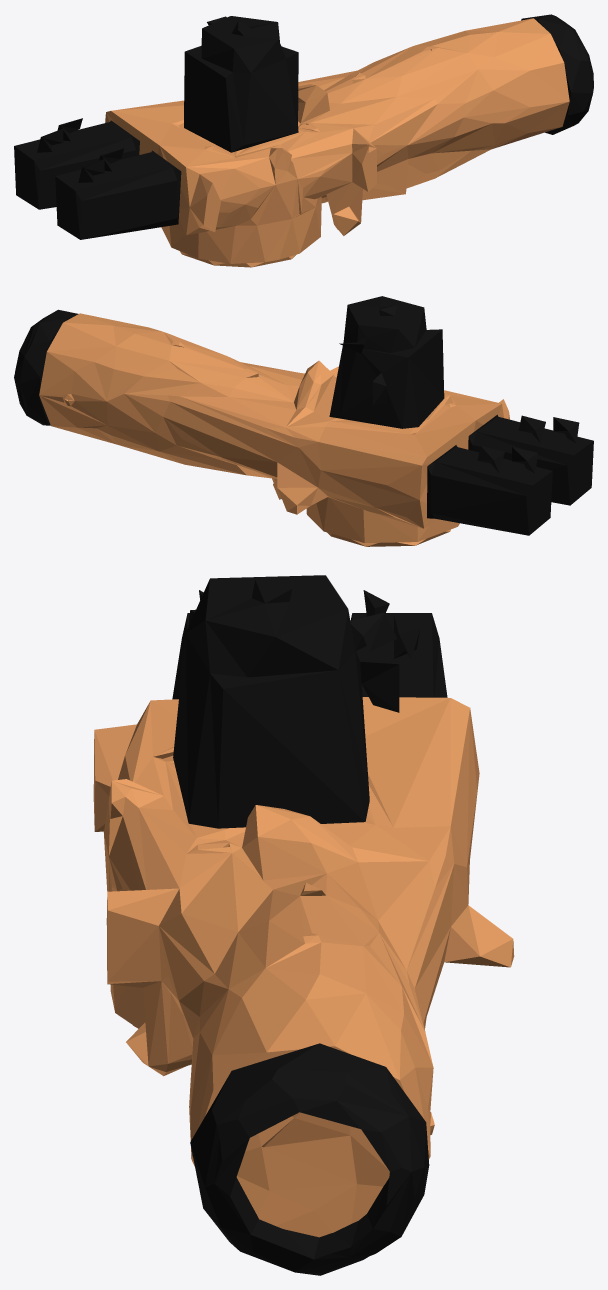
The model's file is like_kr240r2900_link_3.glb.
The picture shows the model from 3 angles, top to bottom: view 1: azimuth 30°, elevation 25°; view 2: azimuth 150°, elevation 25°; view 3: azimuth 270°, elevation 25°; orthographic projection. The views are drawn at different scales.
Parts seen in each view (by area): view 1: world; view 2: world; view 3: world.
Boxes of the visible parts, left/top/right/bottom form: world: left=14, top=14, right=593, bottom=267; world: left=14, top=296, right=593, bottom=546; world: left=93, top=575, right=514, bottom=1275.
Size of the model in its own units: 1.58 by 0.6063 by 0.5449.
